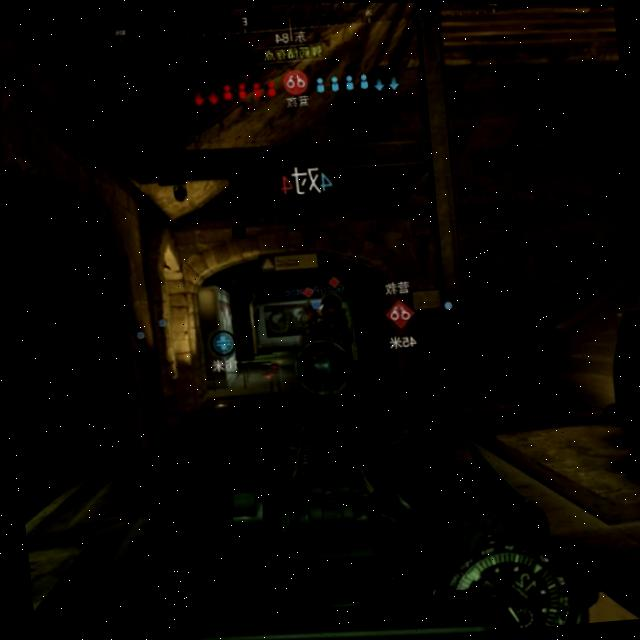MW2_body: (303, 275, 354, 387), (291, 284, 322, 356)
